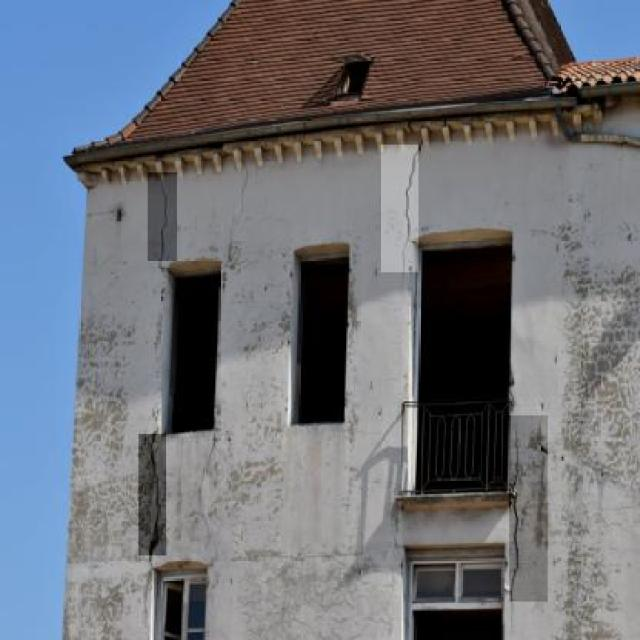Crack: (376, 147, 422, 255), (144, 182, 184, 268)
